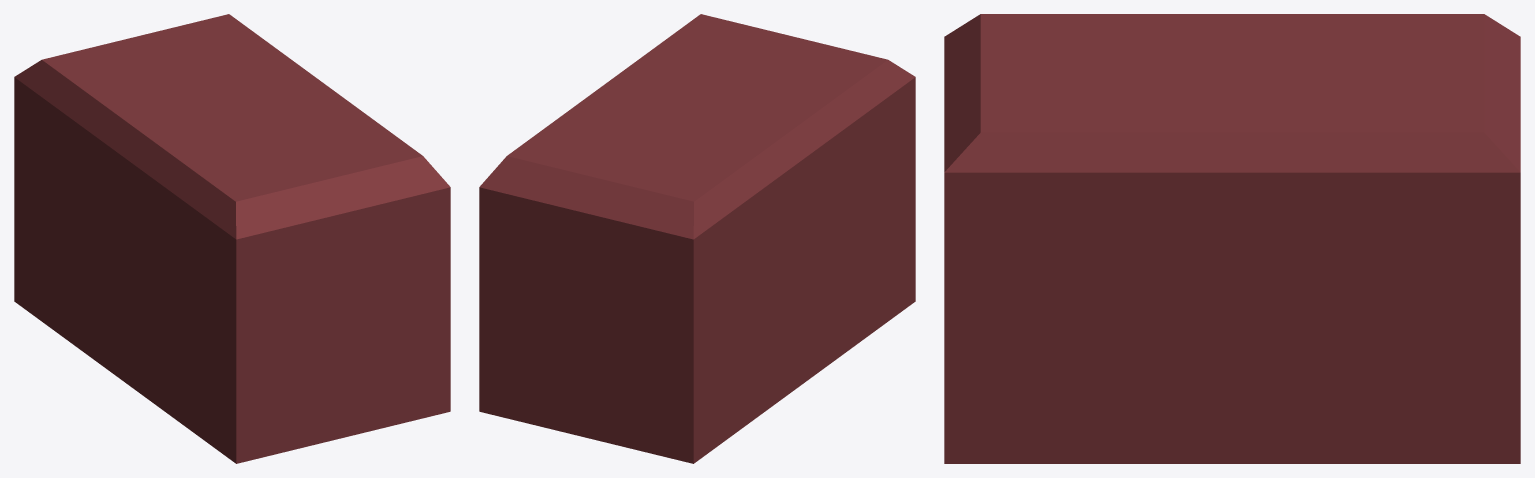
Rendered from Bricks-123.fbx.
3 renders of one model, left to right at view 1: azimuth 30°, elevation 25°; view 2: azimuth 150°, elevation 25°; view 3: azimuth 270°, elevation 25°, orthographic. The views are drawn at different scales.
Parts seen in each view (by area): view 1: Cube; view 2: Cube; view 3: Cube.
Part boxes in pixels (x1=…): Cube: x1=14, y1=14, x2=450, y2=463; Cube: x1=479, y1=14, x2=915, y2=463; Cube: x1=944, y1=14, x2=1520, y2=463.
Size of the model in its own units: 19.96 by 22.12 by 35.81.
